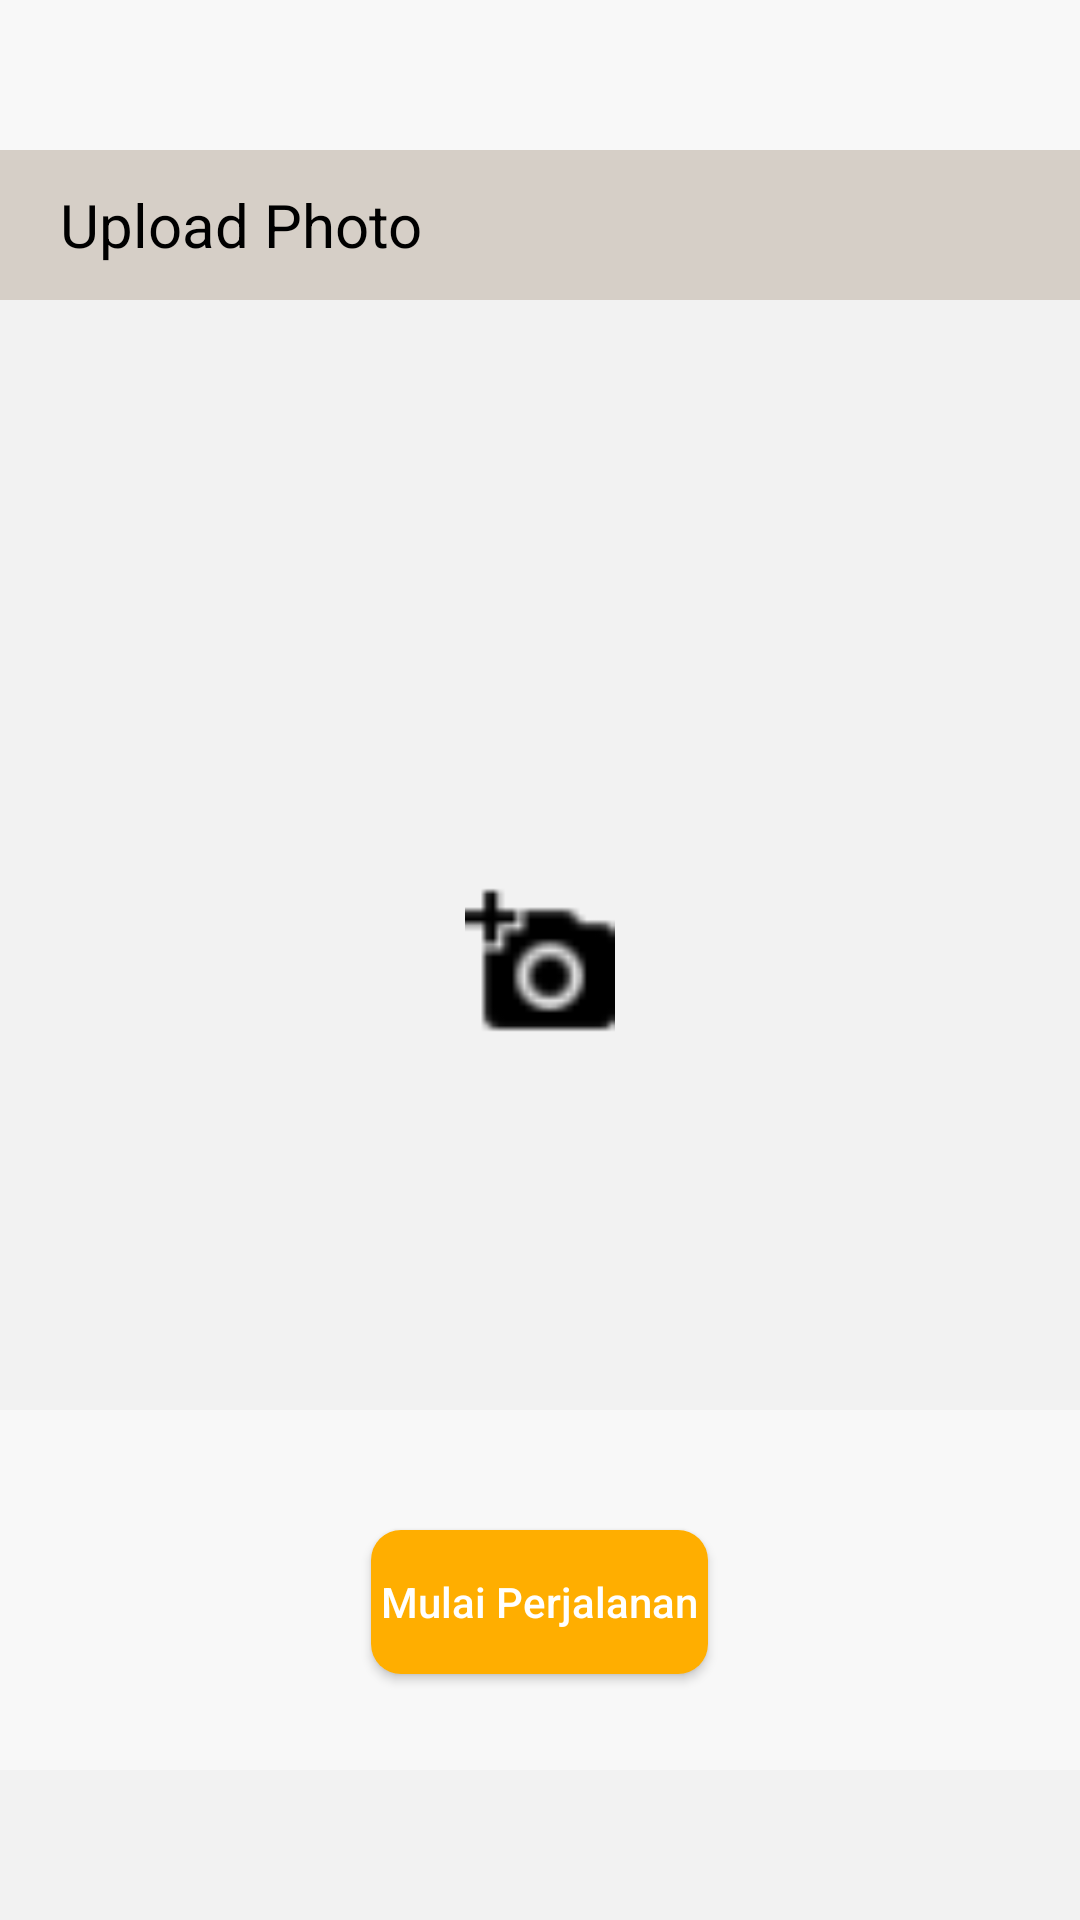

Icons on this 1080w x 1920h Android screen, each with its box as detection(x1, y1, x2, y2):
camera: detection(465, 889, 615, 1031)
